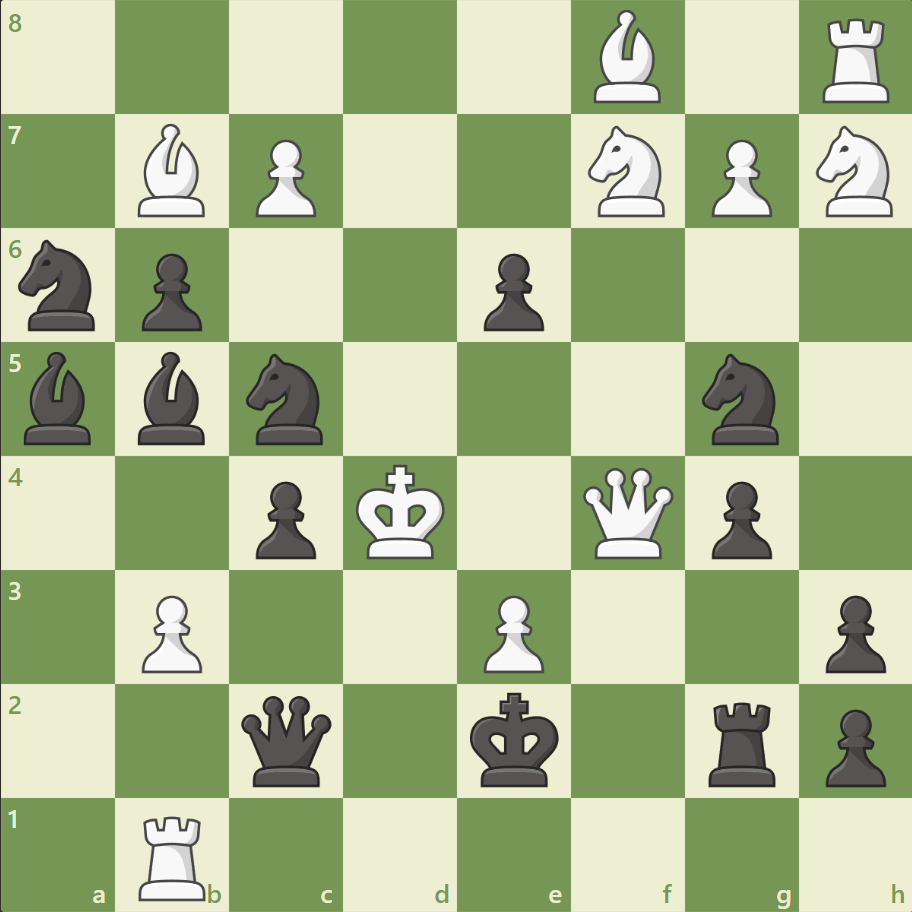B: (585, 6, 669, 109), (131, 120, 215, 222)
K: (351, 458, 451, 566)
N: (579, 121, 676, 223), (806, 121, 903, 223)
P: (247, 132, 322, 223), (701, 132, 776, 223), (133, 586, 208, 677), (474, 586, 549, 677)
Q: (578, 463, 677, 562)
R: (814, 12, 897, 109), (133, 806, 215, 904)
b: (17, 347, 101, 449), (131, 347, 215, 449)
k: (465, 685, 565, 793)
n: (11, 234, 108, 337), (238, 348, 335, 450), (692, 348, 789, 450)
p: (133, 246, 208, 337), (474, 246, 549, 337), (247, 473, 322, 564), (701, 473, 776, 564), (815, 586, 889, 677), (815, 700, 889, 791)
q: (237, 690, 336, 789)
r: (700, 693, 783, 790)
